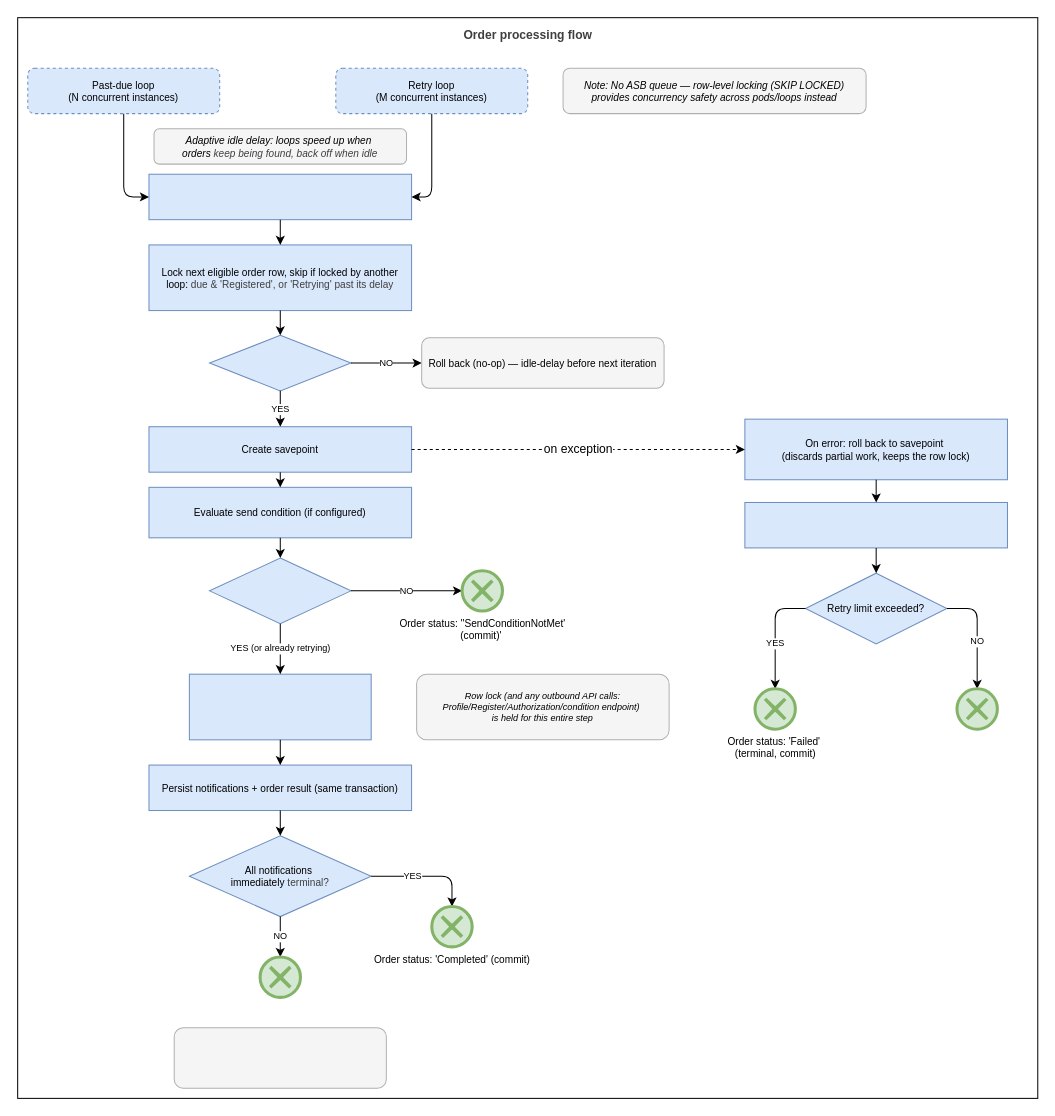
Image size: 1055x1116. Some labels were removed from this diagram. The shapes that lost their labels are listed below. From the top down, each one's centre as x and y in pixels, then its label:
point 280,196: Begin DB transaction
point 280,362: Order found?
point 875,524: Increment retry count
point 280,590: Send condition met?
point 279,706: Resolve contact points, generate email/SMS notifications (status: 'New')
point 976,708: Order status: 'Retrying', will be picked up again after a delay (commit)
point 279,976: Order status: 'Processed' (commit)
point 279,1057: Generated notifications wait to be picked up (see email/SMS processing diagrams)
